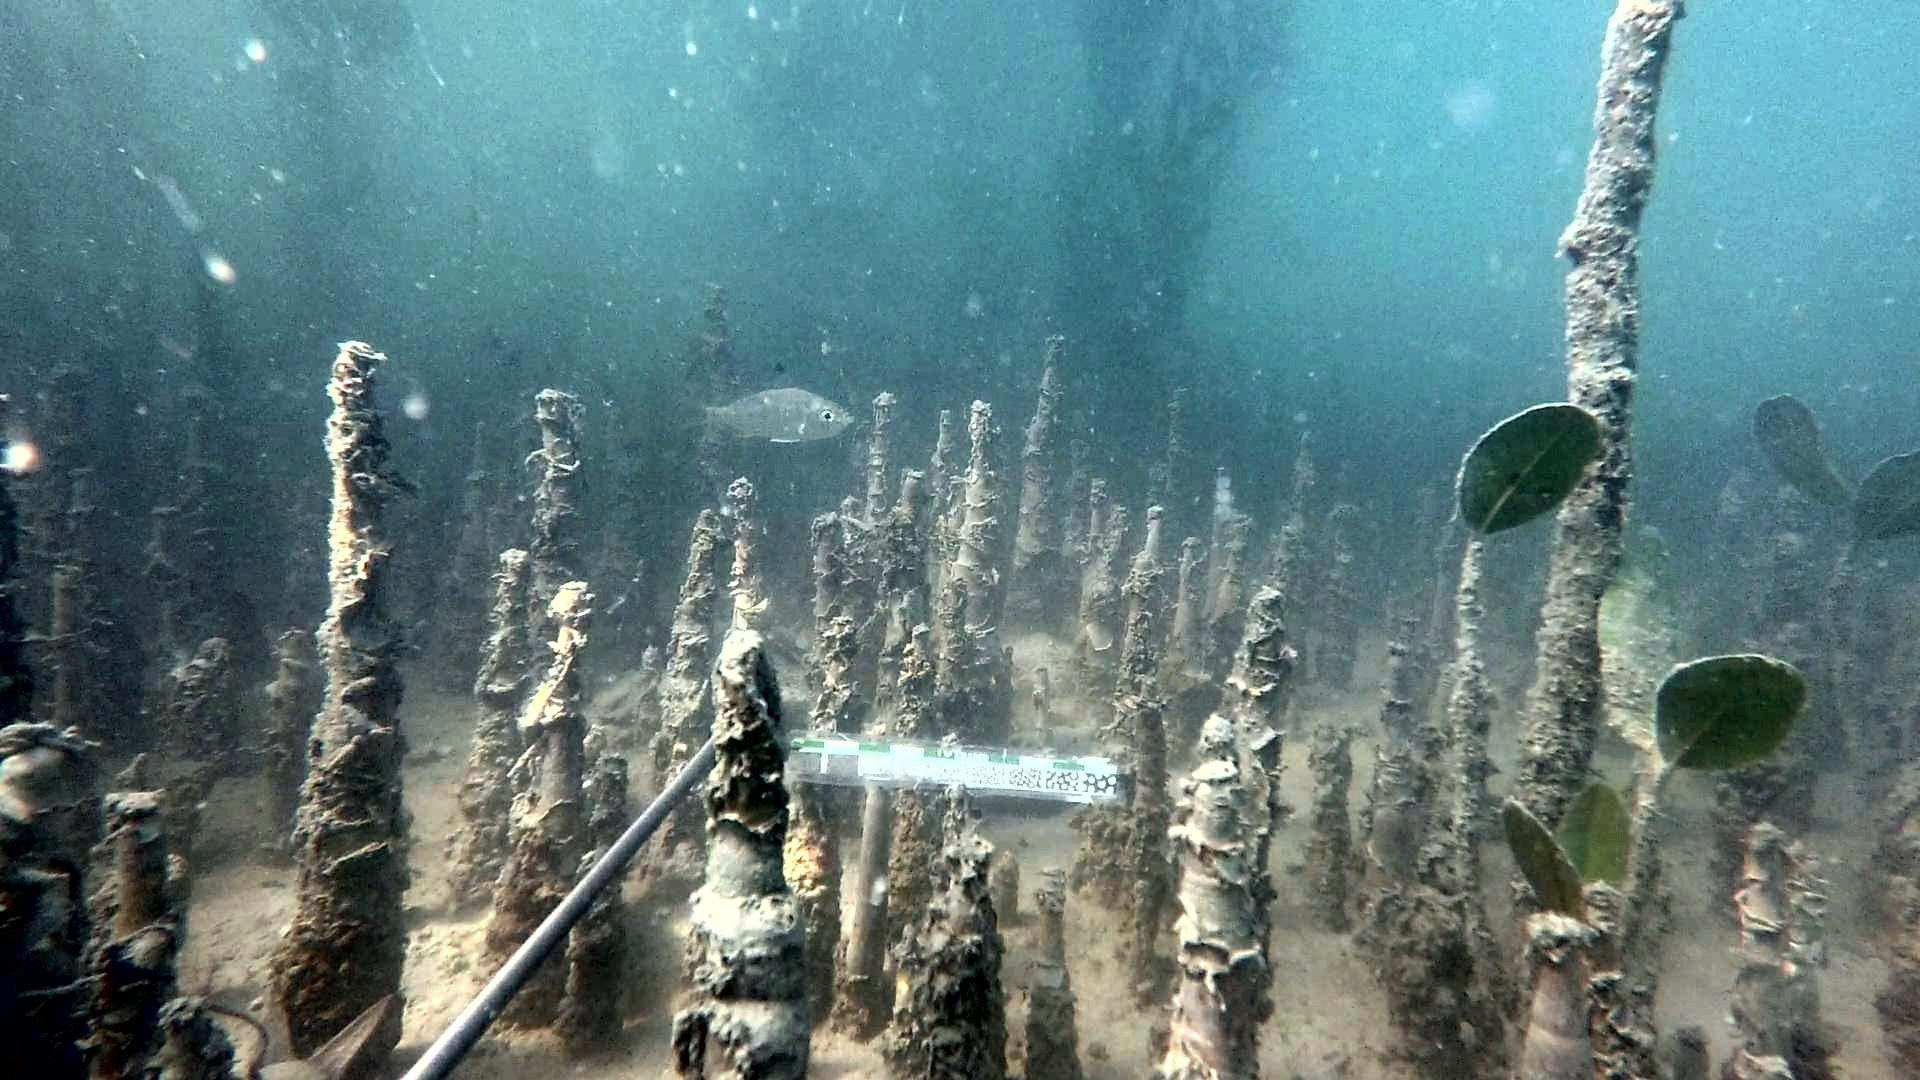gerres: (676, 361, 855, 444)
